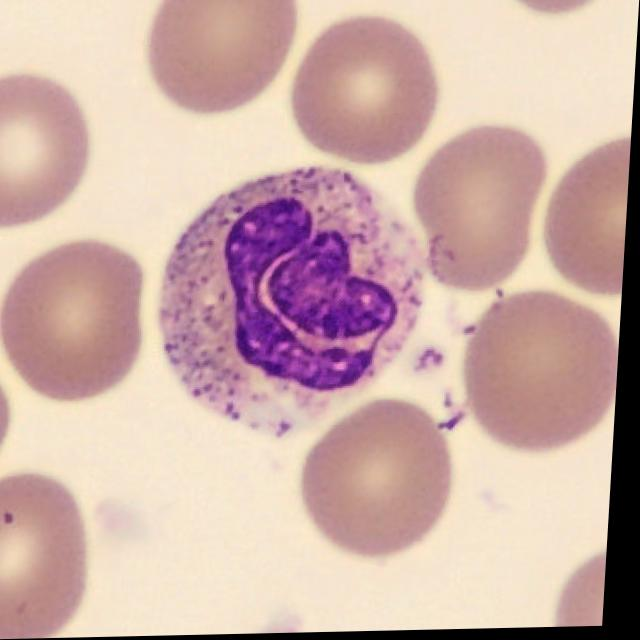Neutrofilo segmentado: (164, 167, 431, 433)
